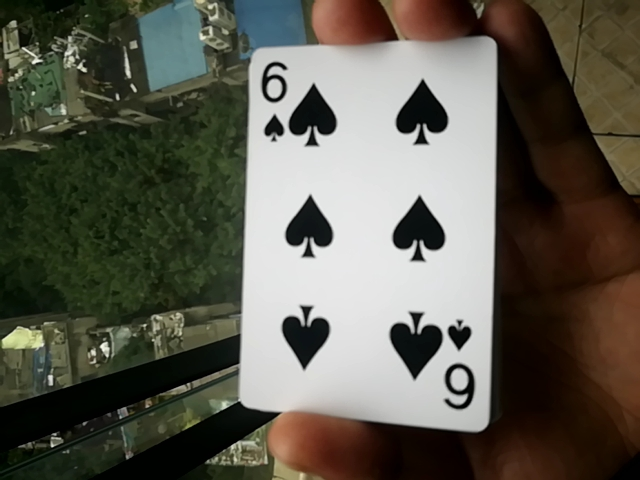ht 6: (233, 38, 495, 427)
